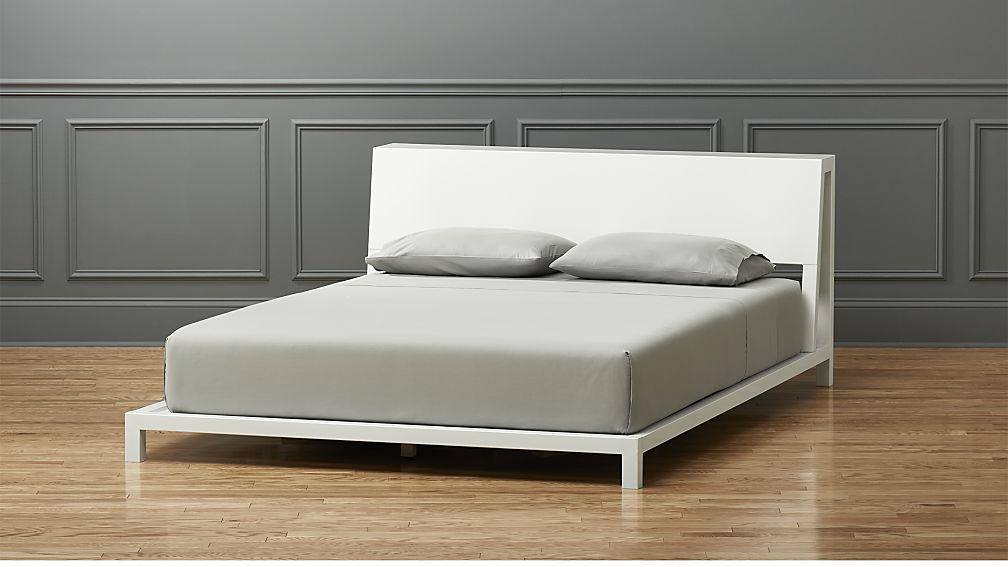bed: (100, 123, 875, 511)
